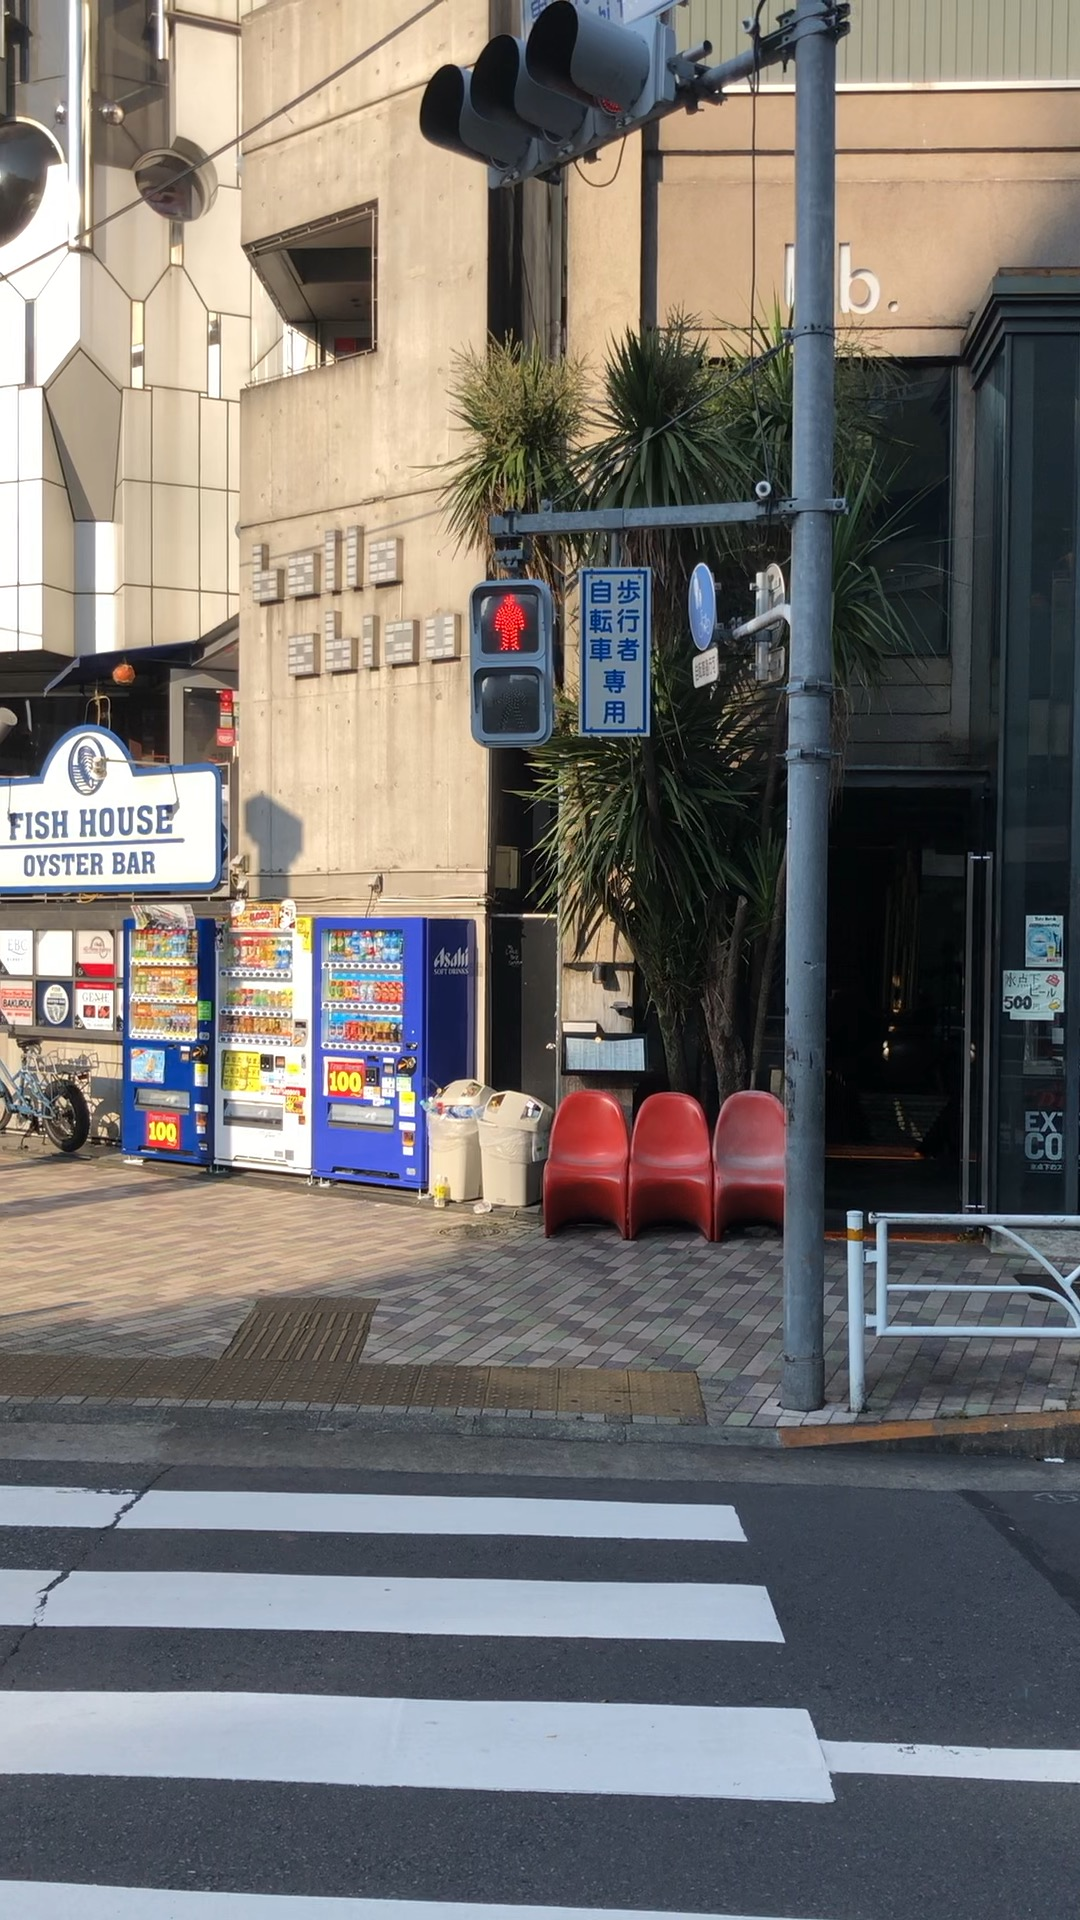red: (468, 580, 554, 746)
